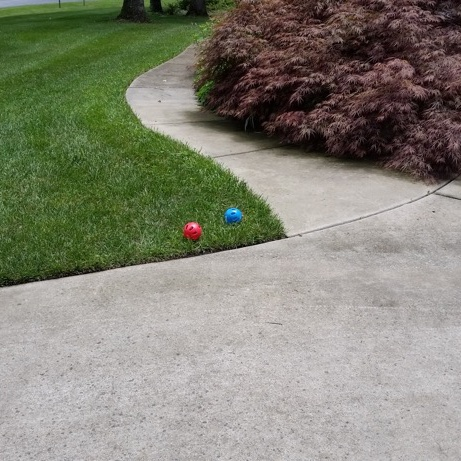blueball: (221, 205, 245, 227)
redball: (182, 218, 204, 241)
